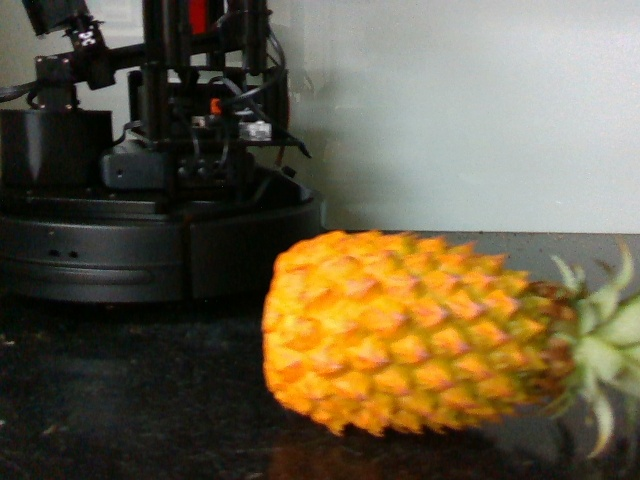pineapple: (252, 219, 640, 433)
